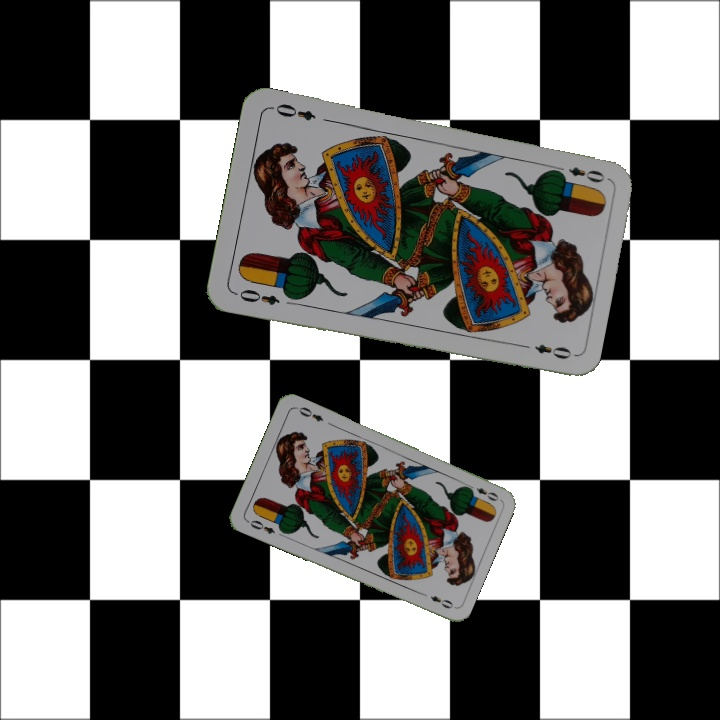EO: (550, 162, 607, 186), (230, 285, 282, 308), (463, 480, 501, 504), (243, 516, 278, 536)
